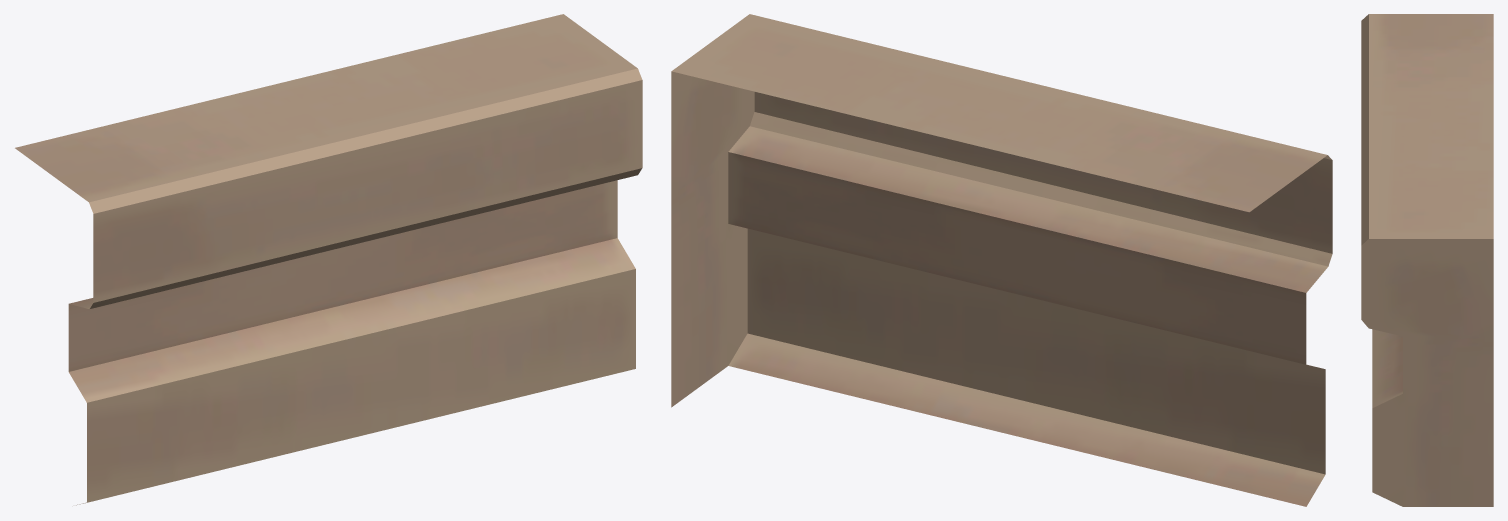
Rendered from EdgeLeft.fbx.
The picture shows the model from 3 angles, left to right: view 1: azimuth 30°, elevation 25°; view 2: azimuth 150°, elevation 25°; view 3: azimuth 270°, elevation 25°; orthographic projection. The views are drawn at different scales.
Parts seen in each view (by area): view 1: EdgeLeft; view 2: EdgeLeft; view 3: EdgeLeft.
Boxes of the visible parts, box(x1,y1,x2,y2) form: EdgeLeft: box(15, 14, 642, 505); EdgeLeft: box(671, 14, 1332, 506); EdgeLeft: box(1361, 14, 1493, 506).
Bounding box in the file's own units: 217 × 120 × 53.95.
